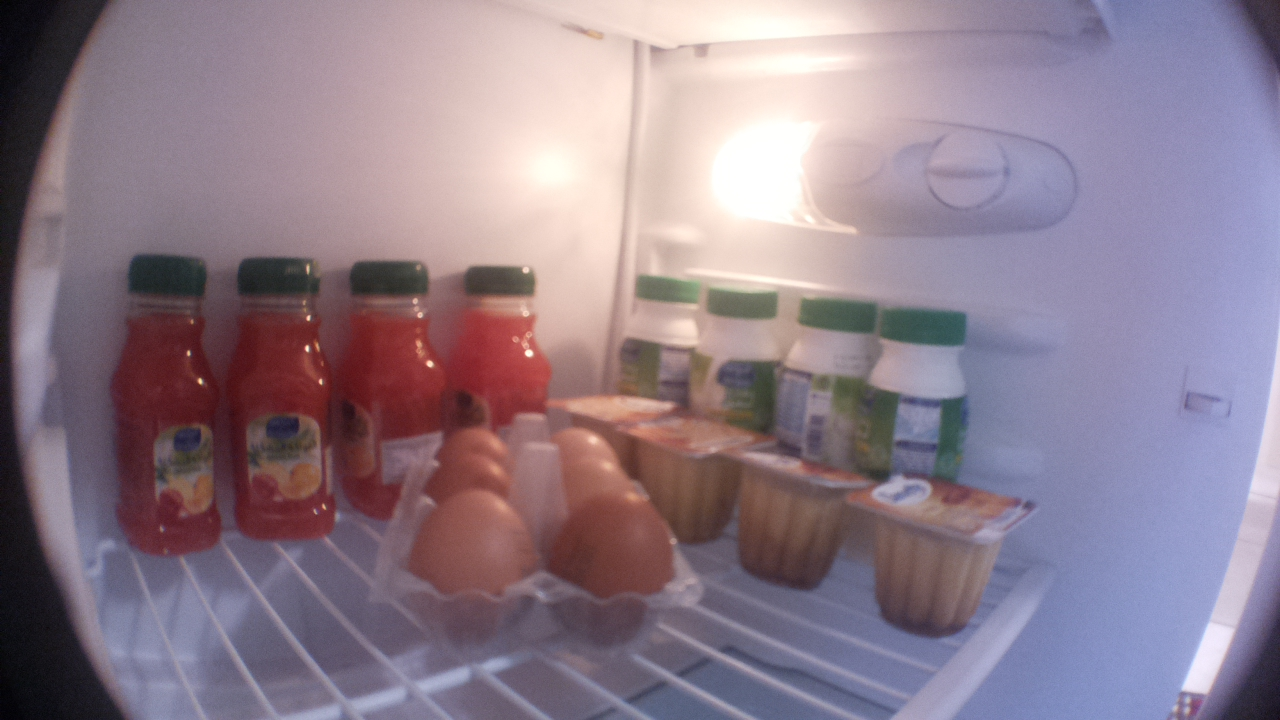caramel: (840, 466, 1041, 644), (727, 443, 869, 593), (625, 406, 766, 554), (552, 387, 675, 426)
egg: (396, 487, 547, 615), (544, 490, 681, 630), (556, 456, 648, 511), (420, 451, 511, 501), (551, 420, 627, 471), (426, 428, 503, 462)
juice: (97, 248, 223, 561), (223, 246, 336, 548), (335, 254, 444, 527), (449, 253, 557, 431)
laban: (857, 306, 987, 481), (774, 281, 878, 456), (693, 275, 786, 427), (615, 267, 703, 409)
